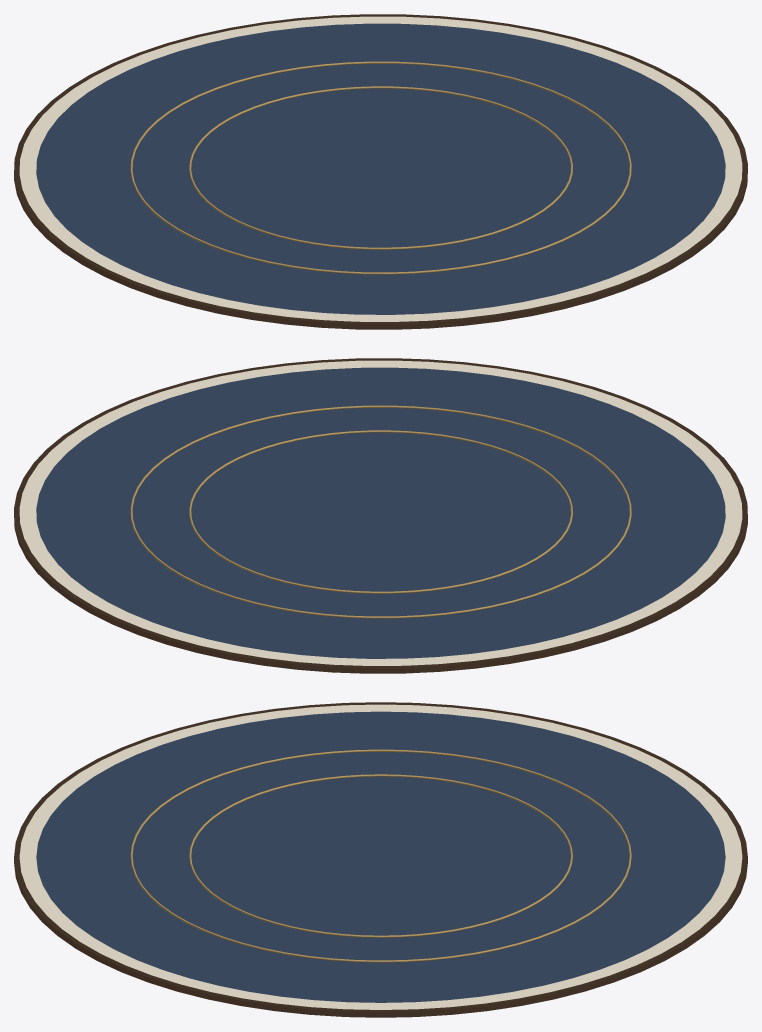
The model's file is observatory-round-rug.glb.
3 renders of one model, top to bottom at view 1: azimuth 30°, elevation 25°; view 2: azimuth 150°, elevation 25°; view 3: azimuth 270°, elevation 25°, orthographic.
Visible parts, largest first — view 1: library-round-rug.005, Observatory curve.003, Observatory curve.002; view 2: library-round-rug.005, Observatory curve.003, Observatory curve.002; view 3: library-round-rug.005, Observatory curve.003, Observatory curve.002.
Boxes of the visible parts, x1=… form: library-round-rug.005: x1=14, y1=14, x2=747, y2=329; Observatory curve.003: x1=130, y1=61, x2=631, y2=274; Observatory curve.002: x1=189, y1=86, x2=572, y2=249; library-round-rug.005: x1=14, y1=358, x2=747, y2=673; Observatory curve.003: x1=130, y1=405, x2=631, y2=618; Observatory curve.002: x1=189, y1=430, x2=572, y2=593; library-round-rug.005: x1=14, y1=702, x2=747, y2=1017; Observatory curve.003: x1=130, y1=749, x2=631, y2=962; Observatory curve.002: x1=189, y1=774, x2=572, y2=937.
Bounding box in the file's own units: 2.4 × 0.0277 × 2.4.
